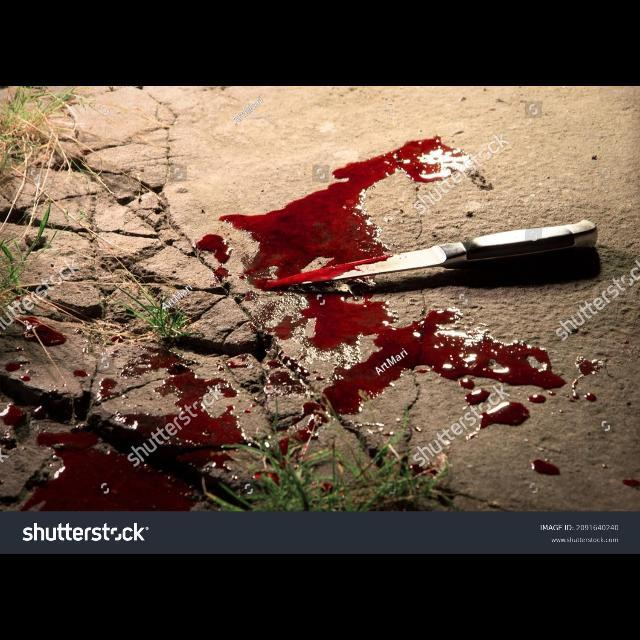blood: (220, 136, 469, 288), (274, 294, 567, 414), (21, 431, 194, 512), (413, 380, 531, 467), (140, 371, 244, 455), (264, 368, 328, 454), (16, 317, 66, 362), (121, 346, 190, 377), (568, 357, 606, 403), (196, 234, 232, 282), (577, 357, 604, 378), (532, 460, 561, 476), (97, 379, 116, 401), (4, 362, 28, 372), (529, 394, 548, 404), (72, 369, 88, 378), (584, 393, 598, 403), (521, 407, 529, 423), (602, 421, 611, 432), (549, 391, 558, 397)
